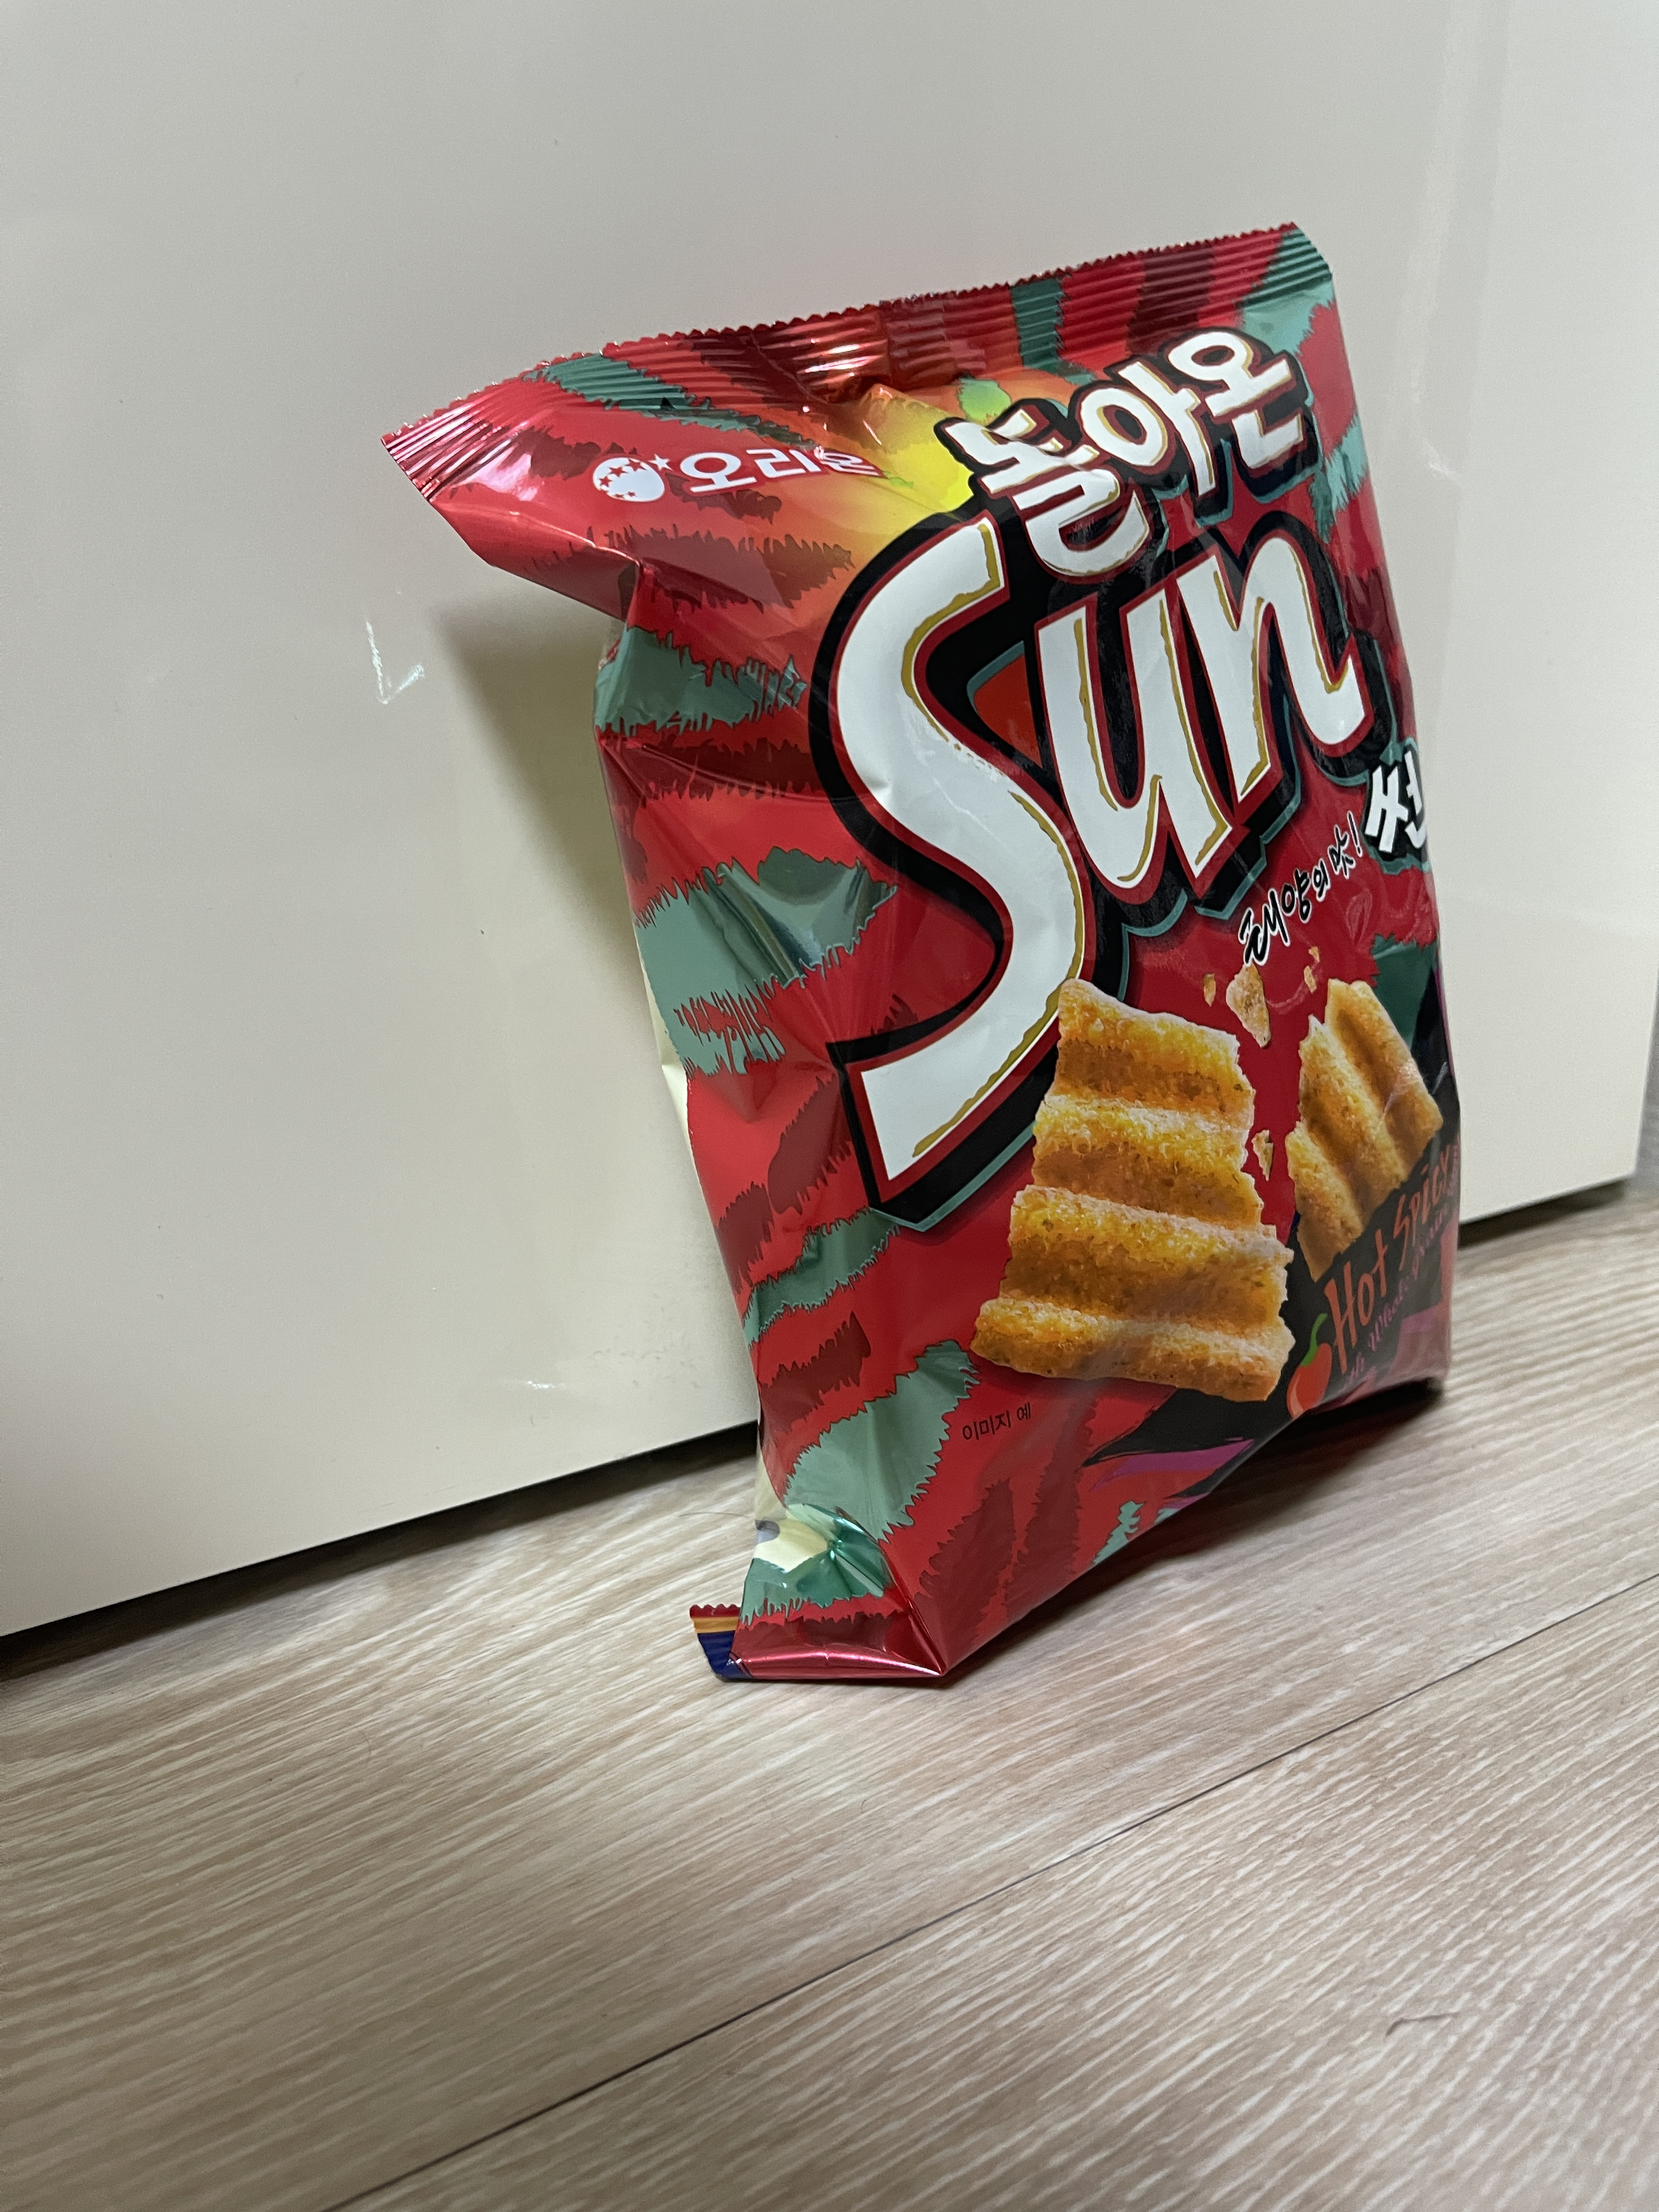snack: (376, 230, 1467, 1702)
